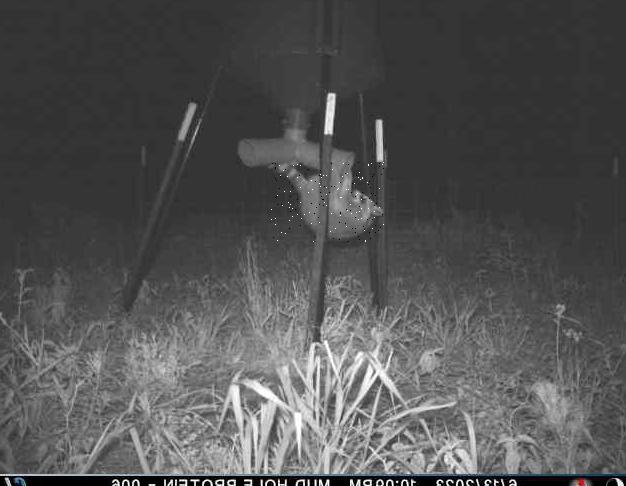Raccoon: (270, 163, 383, 243)
